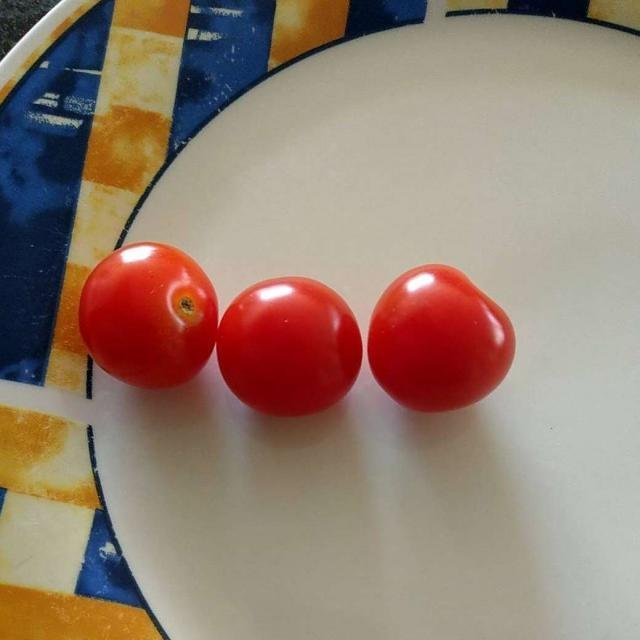tomato: (63, 238, 523, 424), (73, 249, 503, 420)
